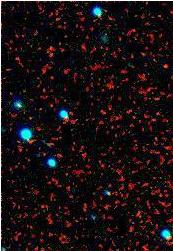star: (149, 50, 173, 80)
